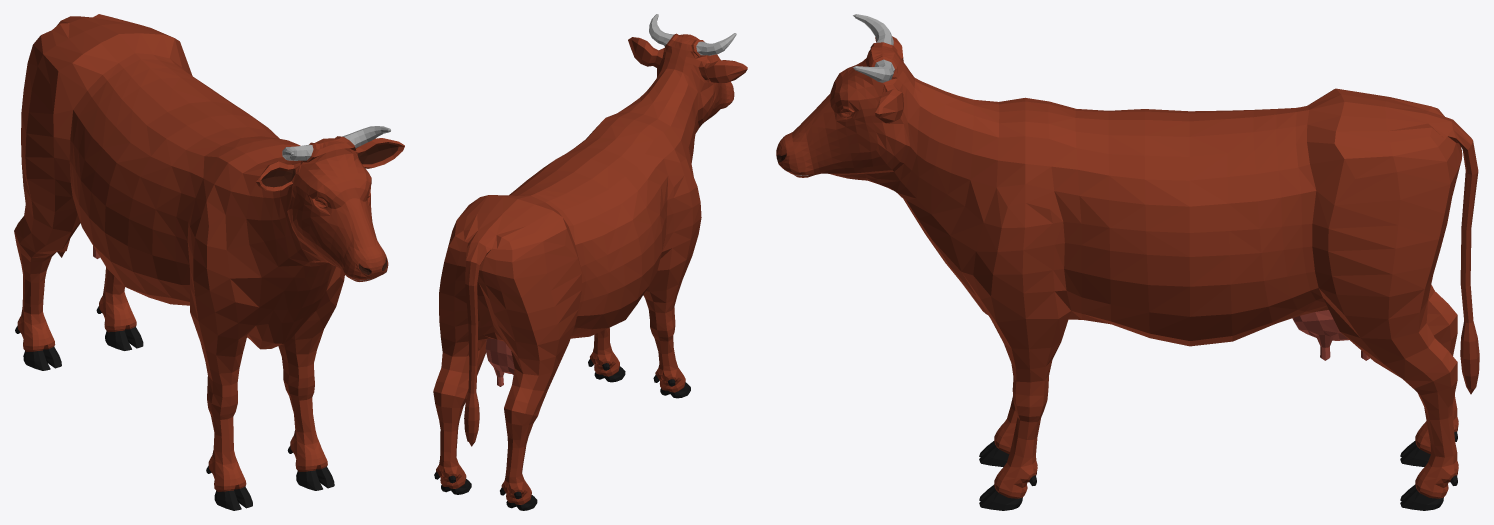
Rendered from cow_cow.obj.
The picture shows the model from 3 angles, left to right: view 1: azimuth 30°, elevation 25°; view 2: azimuth 150°, elevation 25°; view 3: azimuth 270°, elevation 25°; orthographic projection. The views are drawn at different scales.
Bounding box in the file's own units: 0.677 × 1.53 × 2.22.
